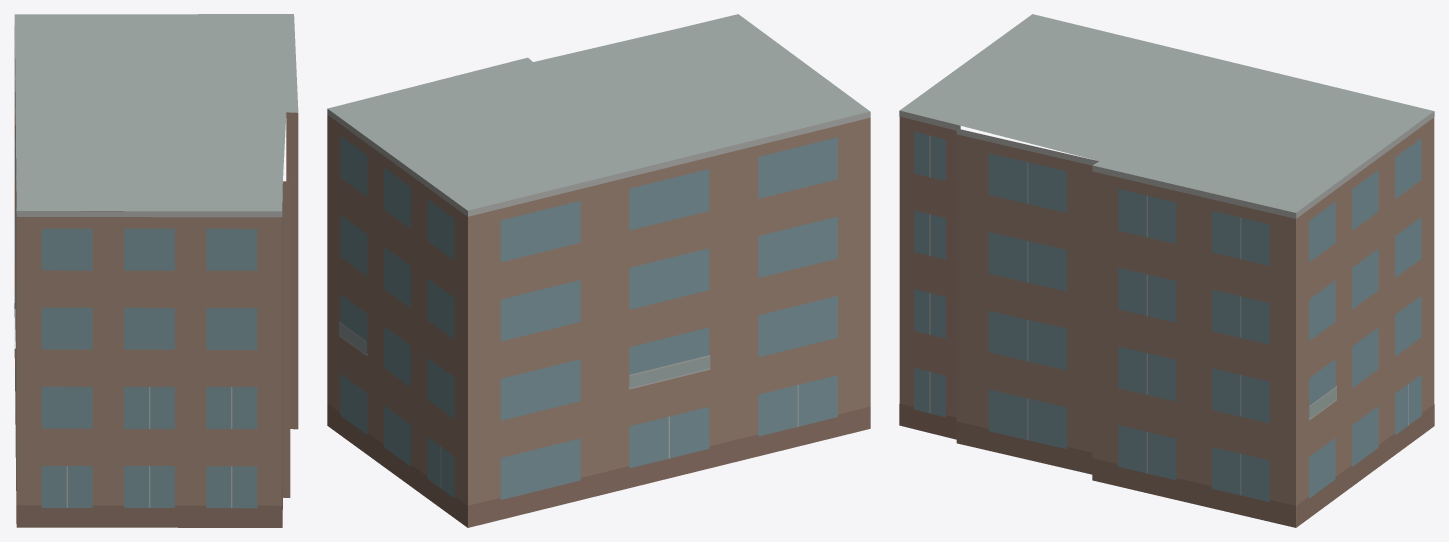
File: survey-upis-32941465.glb
The picture shows the model from 3 angles, left to right: view 1: azimuth 30°, elevation 25°; view 2: azimuth 150°, elevation 25°; view 3: azimuth 270°, elevation 25°; orthographic projection.
Parts seen in each view (by area): view 1: survey-upis-32941465.tmp; view 2: survey-upis-32941465.tmp; view 3: survey-upis-32941465.tmp.
Part boxes in pixels (x1,y1,x2,y2): survey-upis-32941465.tmp: (14,14,298,527); survey-upis-32941465.tmp: (327,14,870,527); survey-upis-32941465.tmp: (899,14,1434,527).
Bounding box in the file's own units: 17.49 × 12.9 × 19.87.
